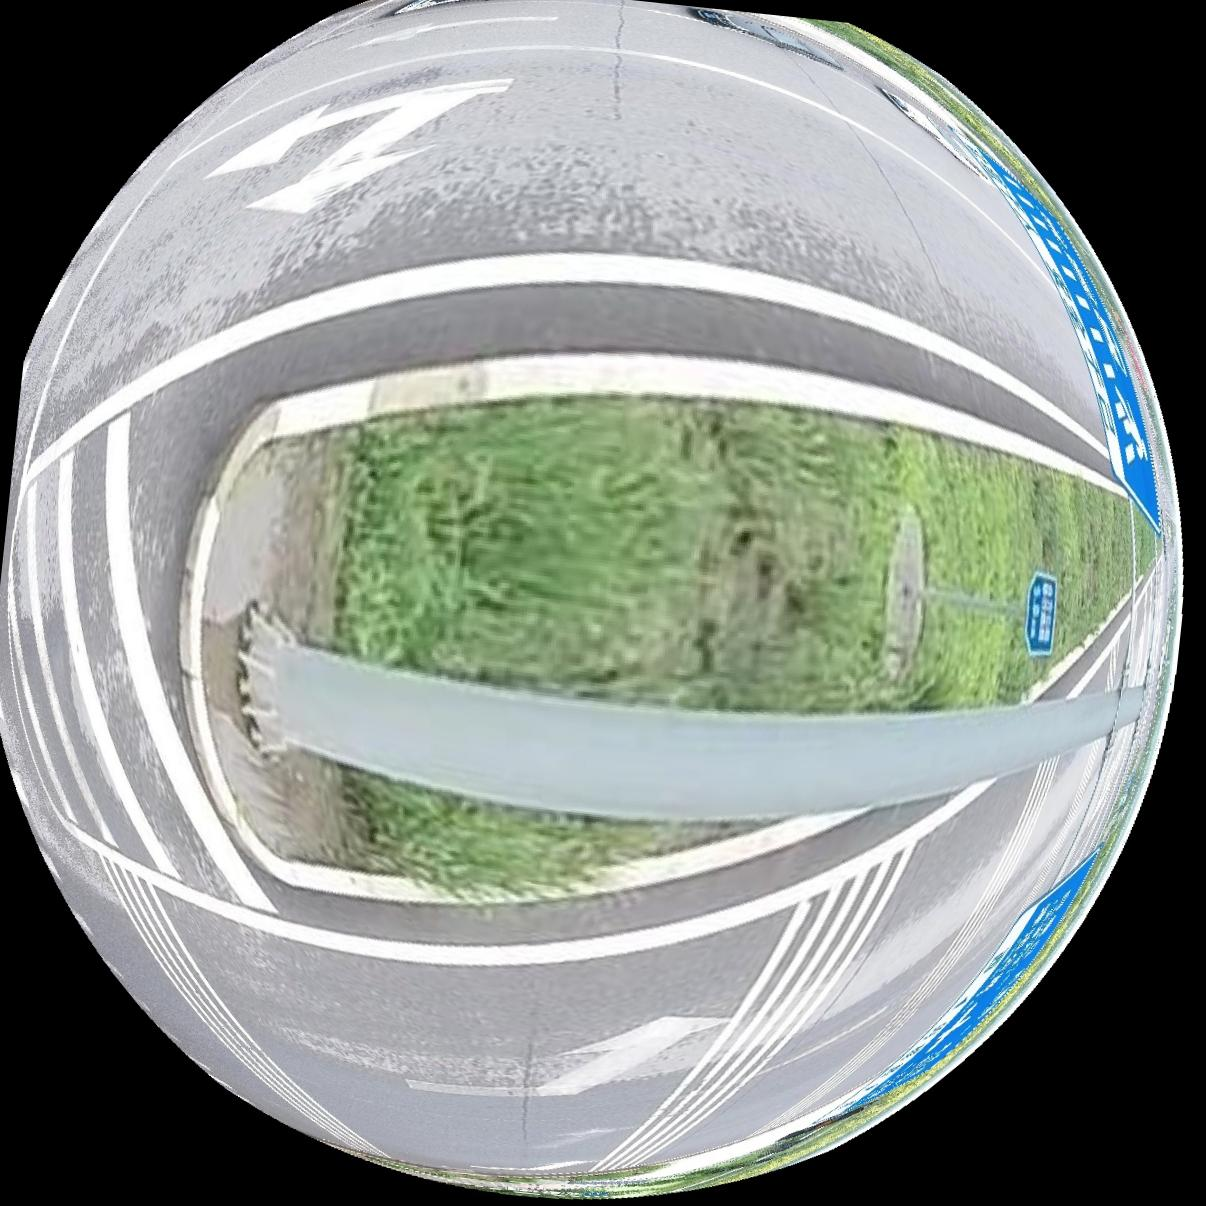cars: (880, 87, 991, 181), (694, 7, 842, 67)
